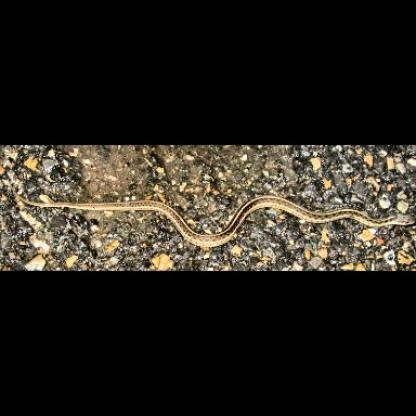Snake: (29, 186, 416, 252)
